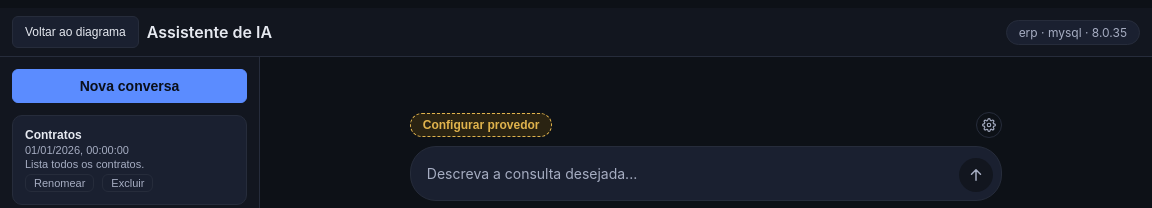
Test: PaginaDoAssistente › excluir a conversa em andamento volta o chat ao estado inicial (US4)
(page scrolled)
Click the button "Contratos": coordinates (130, 149) [25,128,234,170]
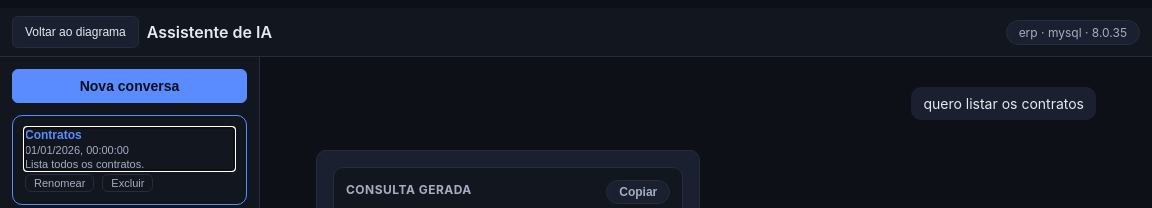
Now the text "quero listar os contratos" is shown, box [911,87,1096,120]
Click the button with aria-label "Excluir Contratos": coordinates (128, 183) [102,174,153,192]
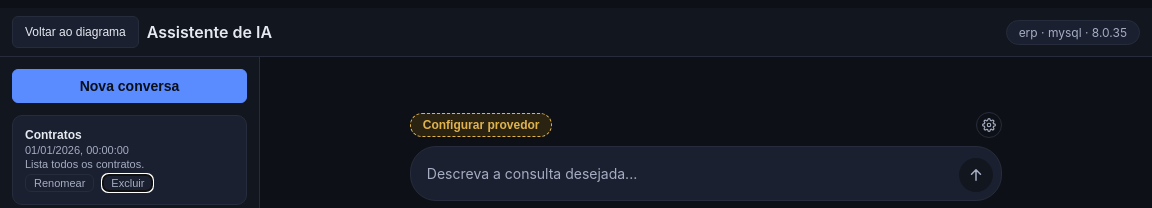
Now the text "quero listar os contratos" is gone
